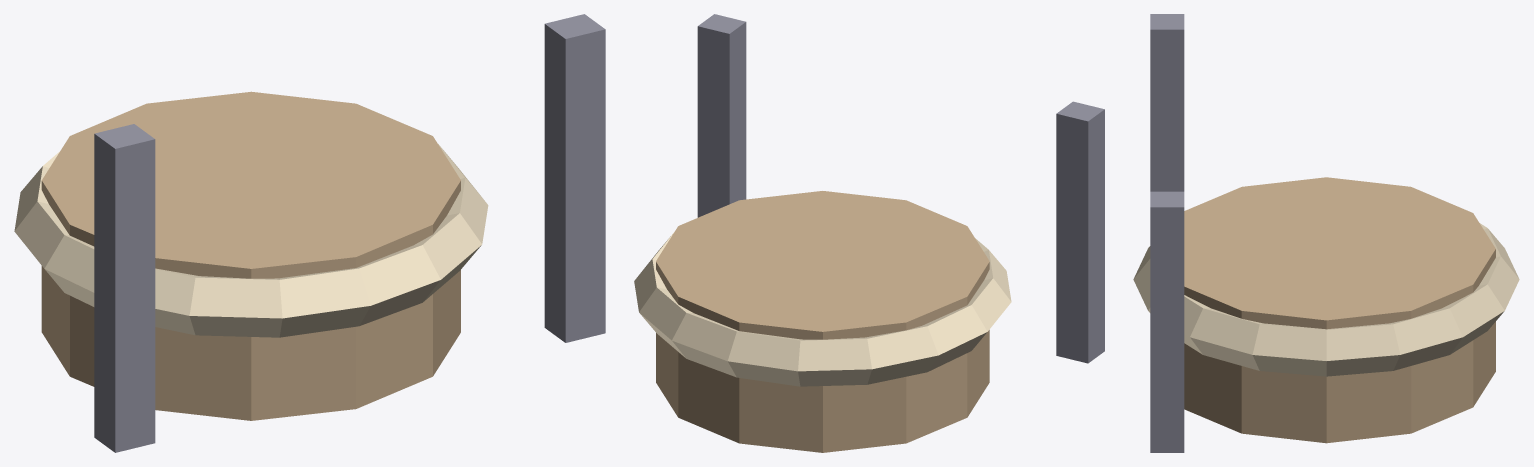
The model's file is compuerta_base.glb.
The picture shows the model from 3 angles, left to right: view 1: azimuth 30°, elevation 25°; view 2: azimuth 150°, elevation 25°; view 3: azimuth 270°, elevation 25°; orthographic projection. The views are drawn at different scales.
Parts seen in each view (by area): view 1: compuerta_base; view 2: compuerta_base; view 3: compuerta_base.
Part boxes in pixels (left/top/right/bottom): compuerta_base: left=14, top=14, right=605, bottom=452; compuerta_base: left=634, top=14, right=1104, bottom=452; compuerta_base: left=1133, top=14, right=1519, bottom=452.
Bounding box in the file's own units: 1.35 × 0.85 × 1.14.
